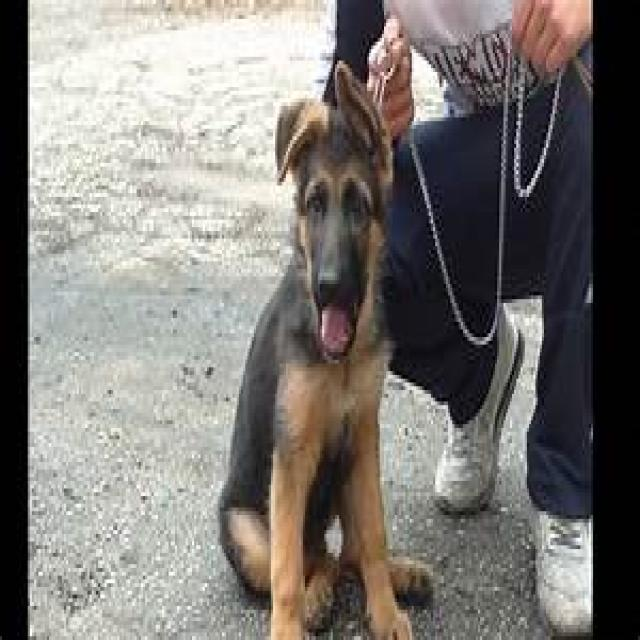KOPEK: (216, 57, 440, 640)
